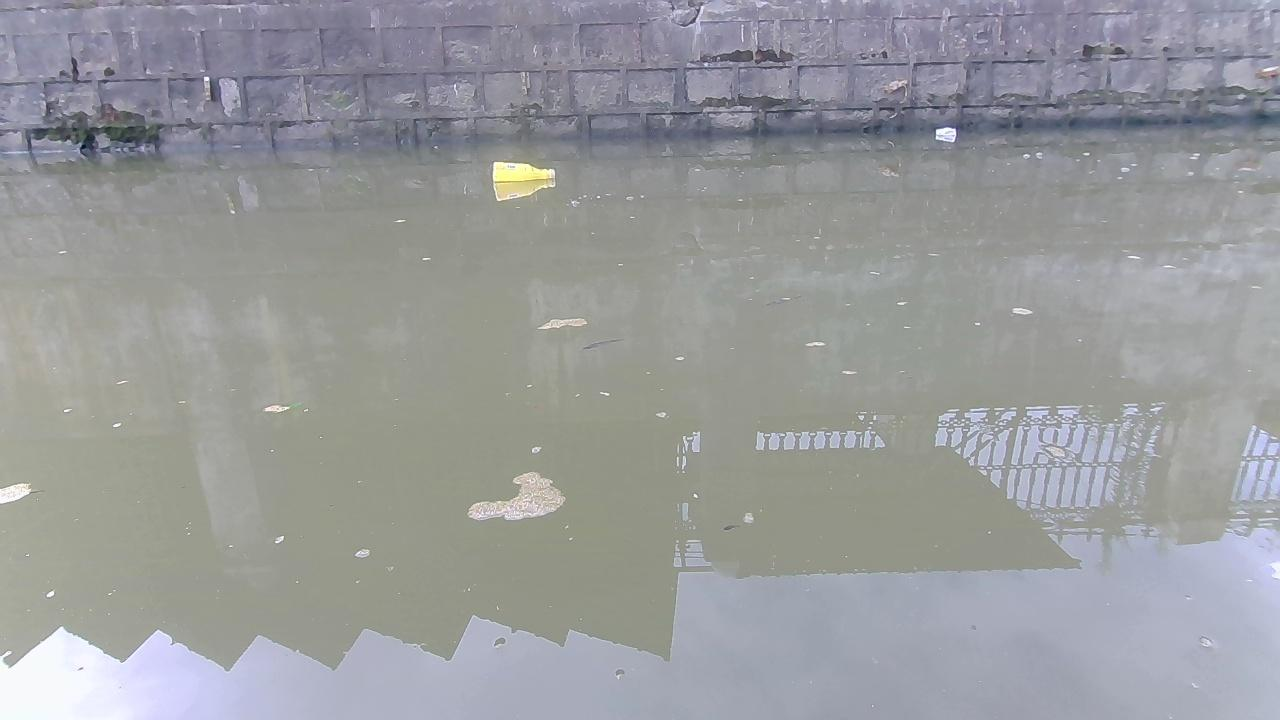bottle: (490, 157, 559, 184), (930, 123, 955, 142)
